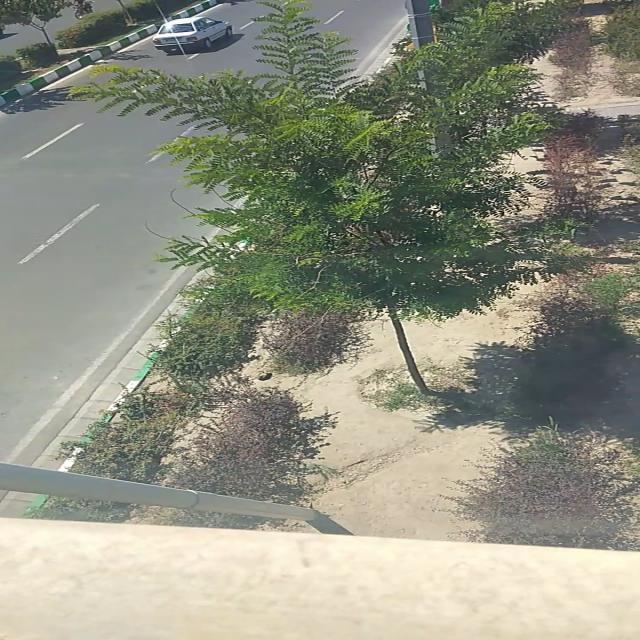car: (154, 14, 234, 54)
